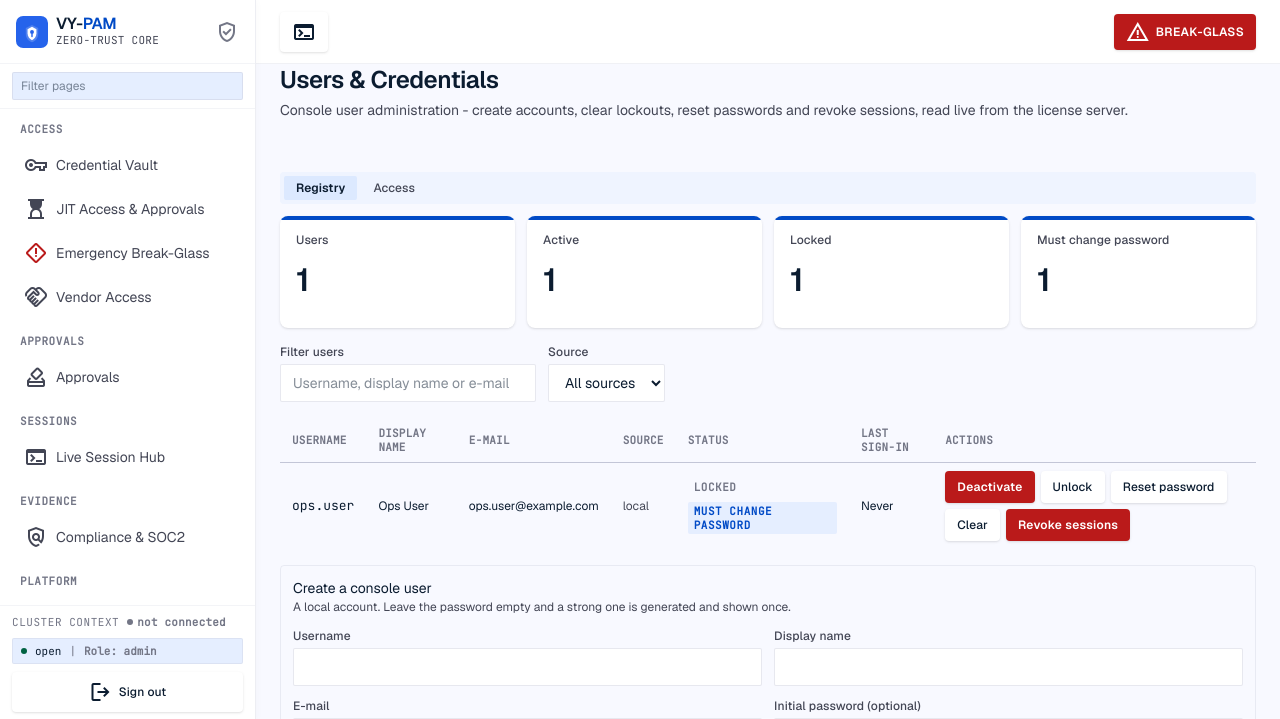
Test: UsersPage (ADR-0016 batch 11.7, contract-shaped) › renders the captured lockout row with Unlock and clears it verbatim
Expected: the text "Locked" below "Status" is shown, [694, 480, 736, 494]
Click the button "Unlock". click: click(1073, 487)
box: [1041, 471, 1105, 503]
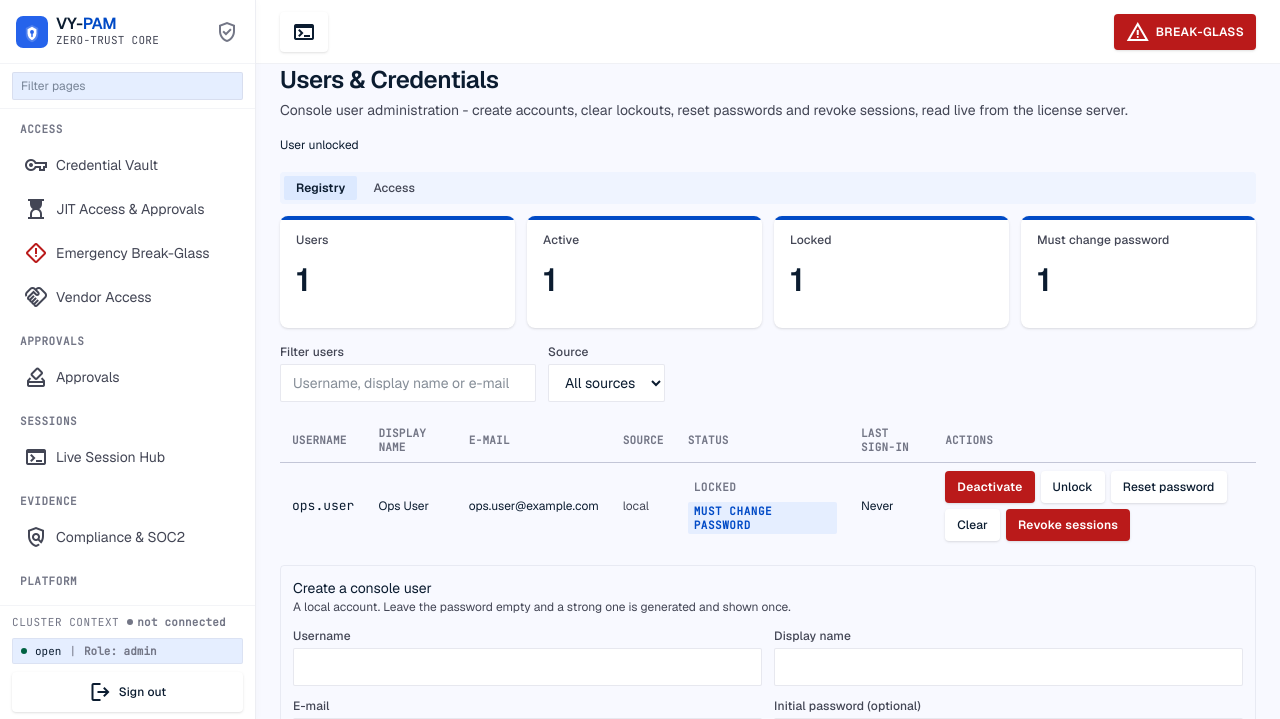
Result: the text "User unlocked" is shown at [280, 137, 359, 153]
